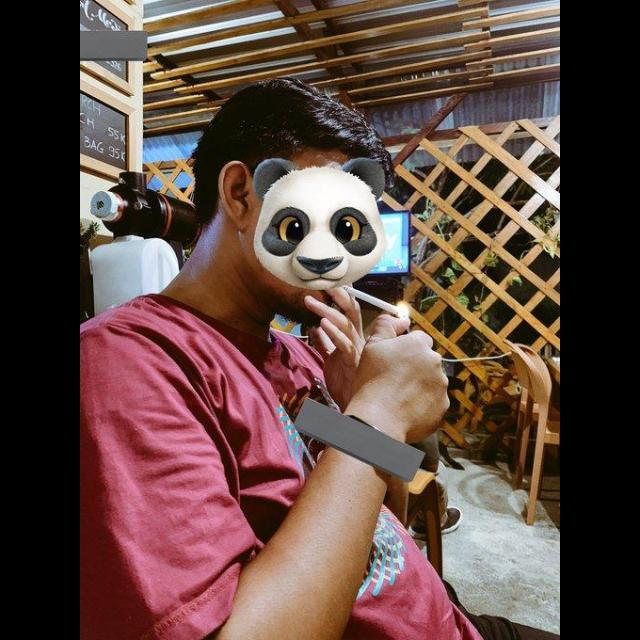rokok: (344, 280, 411, 322)
